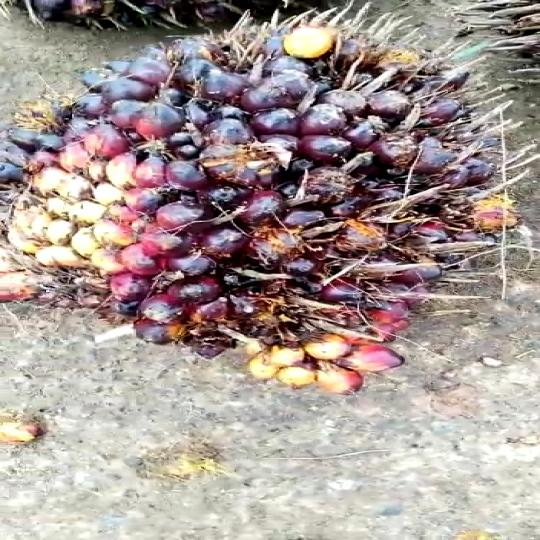masak: (0, 12, 540, 410)
